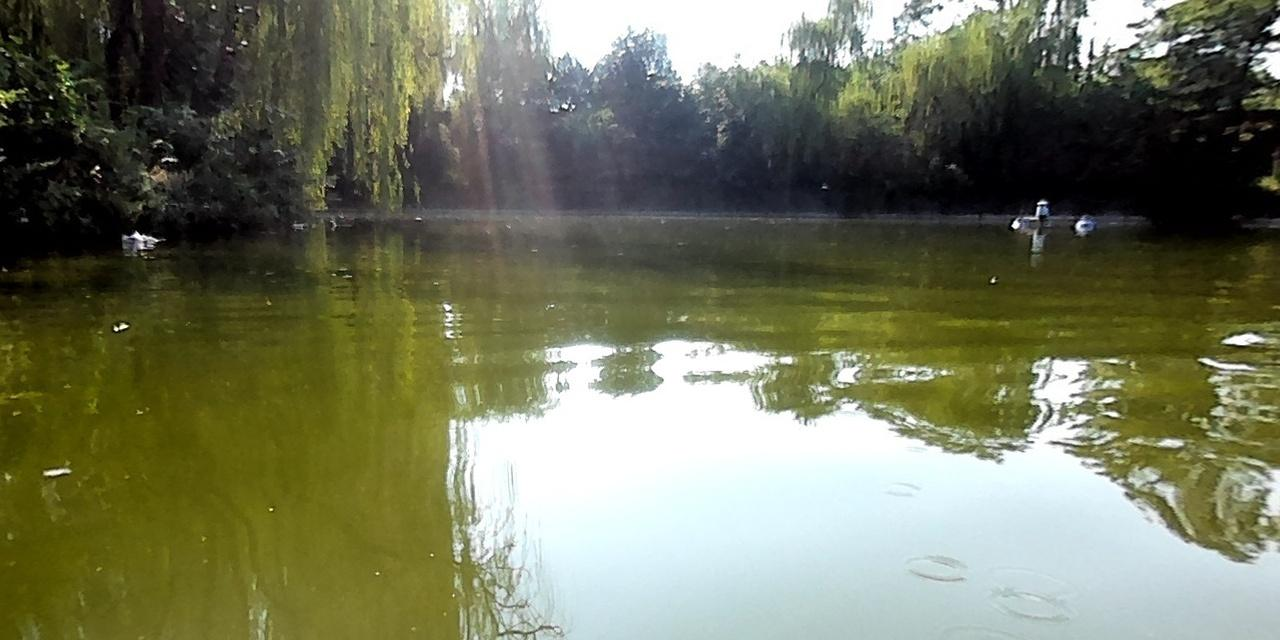bottle: (121, 230, 150, 250)
